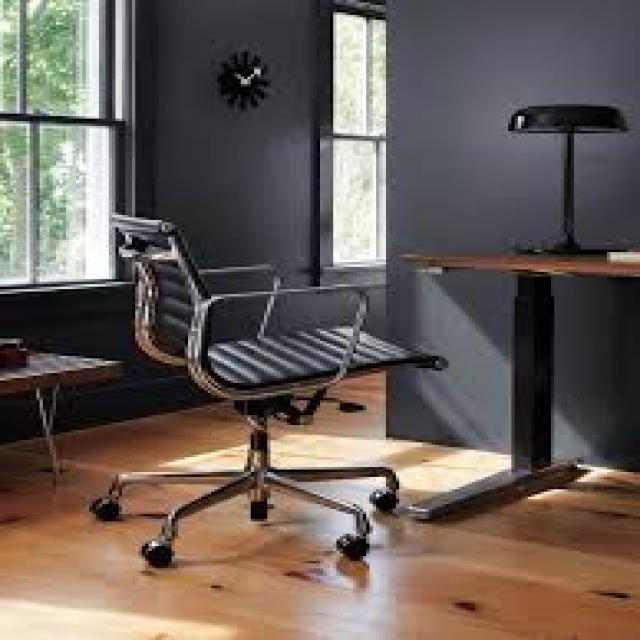chair: (22, 185, 469, 613)
